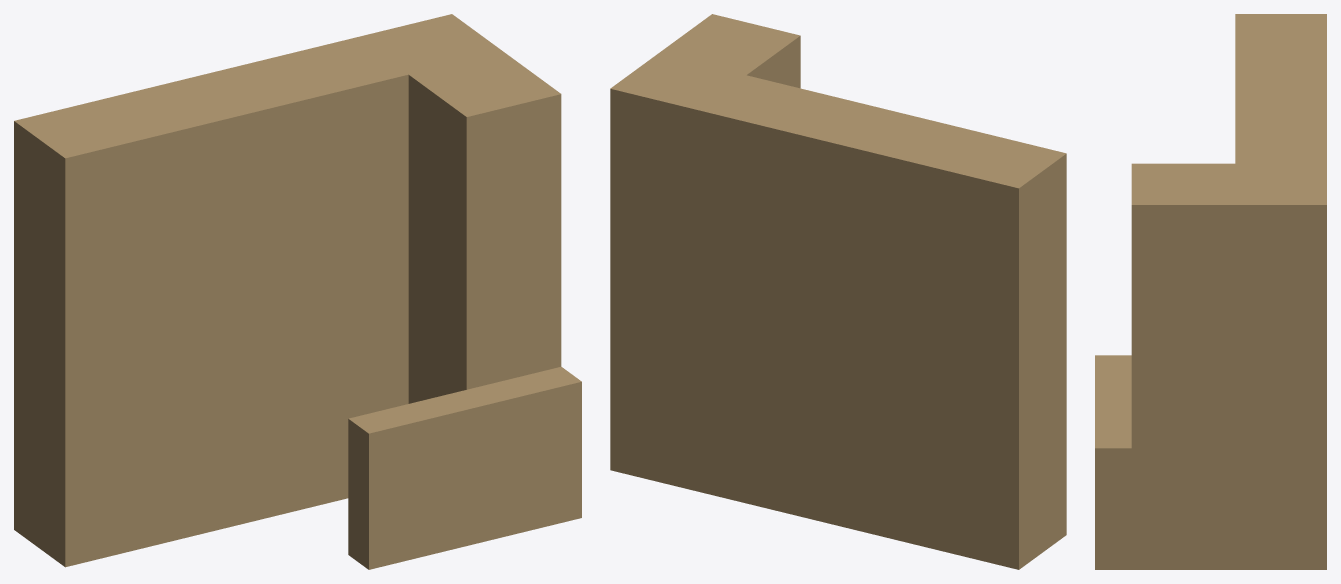
The model's file is wardrobe.glb.
3 renders of one model, left to right at view 1: azimuth 30°, elevation 25°; view 2: azimuth 150°, elevation 25°; view 3: azimuth 270°, elevation 25°, orthographic. The views are drawn at different scales.
Parts seen in each view (by area): view 1: REF-L05-R01-wardrobe-part-1, REF-L05-R01-wardrobe-part-2, REF-L05-R01-wardrobe-part-3; view 2: REF-L05-R01-wardrobe-part-1, REF-L05-R01-wardrobe-part-2; view 3: REF-L05-R01-wardrobe-part-1, REF-L05-R01-wardrobe-part-2, REF-L05-R01-wardrobe-part-3.
Part boxes in pixels (x1,y1,x2,y2): REF-L05-R01-wardrobe-part-1: (14, 14, 502, 567); REF-L05-R01-wardrobe-part-2: (408, 51, 561, 403); REF-L05-R01-wardrobe-part-3: (348, 366, 581, 569); REF-L05-R01-wardrobe-part-1: (610, 53, 1066, 569); REF-L05-R01-wardrobe-part-2: (658, 14, 800, 88); REF-L05-R01-wardrobe-part-1: (1235, 14, 1326, 569); REF-L05-R01-wardrobe-part-2: (1131, 163, 1235, 569); REF-L05-R01-wardrobe-part-3: (1095, 355, 1131, 569).
Bounding box in the file's own units: 0.74 × 0.66 × 0.38.
